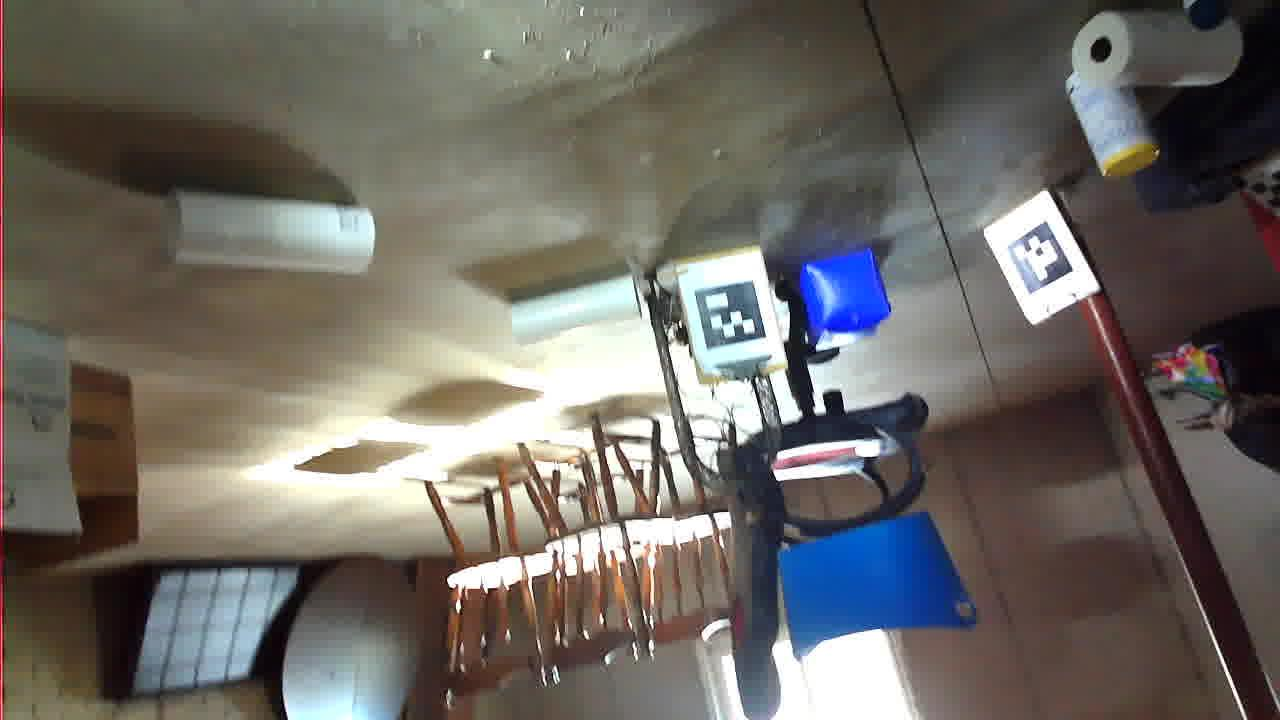coral: (903, 450, 1121, 527), (639, 373, 766, 440)
